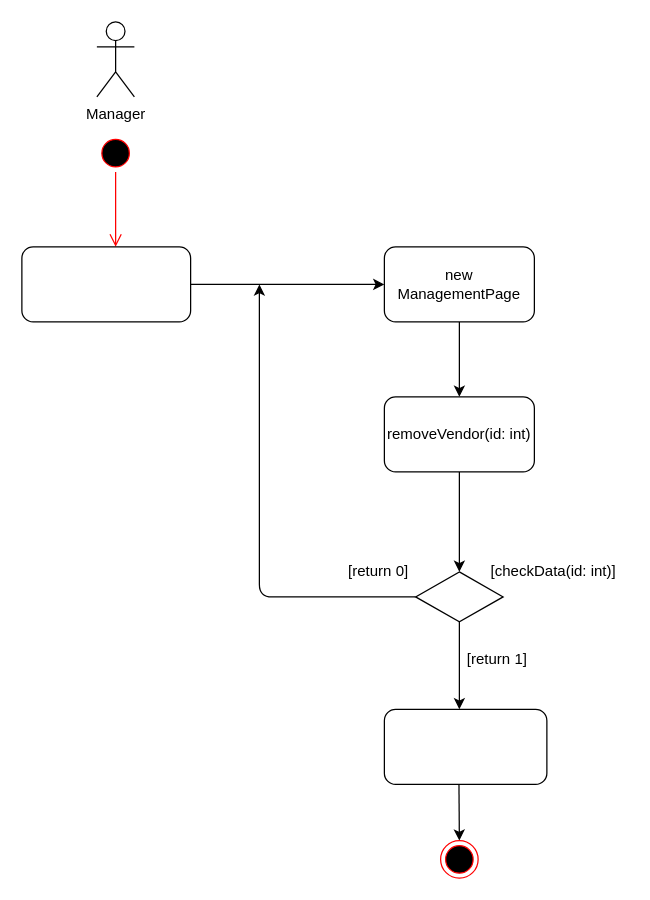
This 650x900 diagram has some shape labels left out. The box of each missing label's shape, as (x1, y1, x2, y2) in pixels:
onRemoveButtonClick(): (21, 246, 191, 322)
removeVendorByID(id: int): (383, 708, 547, 784)
